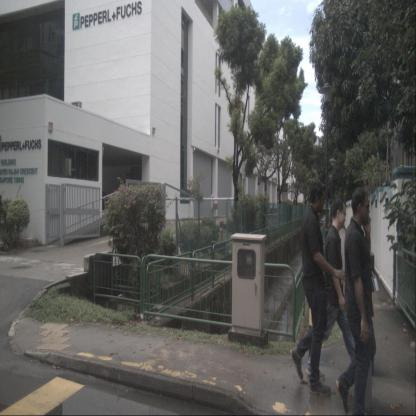human-pedestrian-adult: (290, 182, 347, 396), (306, 197, 366, 380), (336, 188, 376, 416)
vehicle-car: (270, 202, 278, 214)
